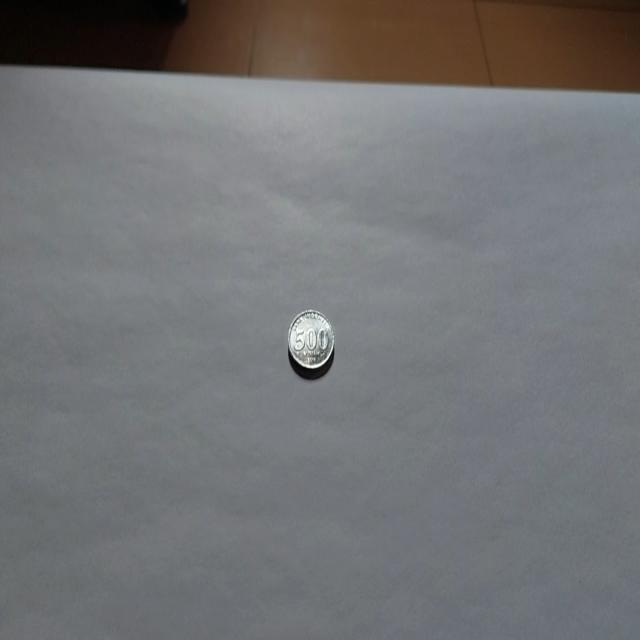lima ratus rupiah: (286, 306, 334, 378)
